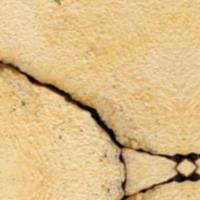crack: (4, 60, 199, 199)
